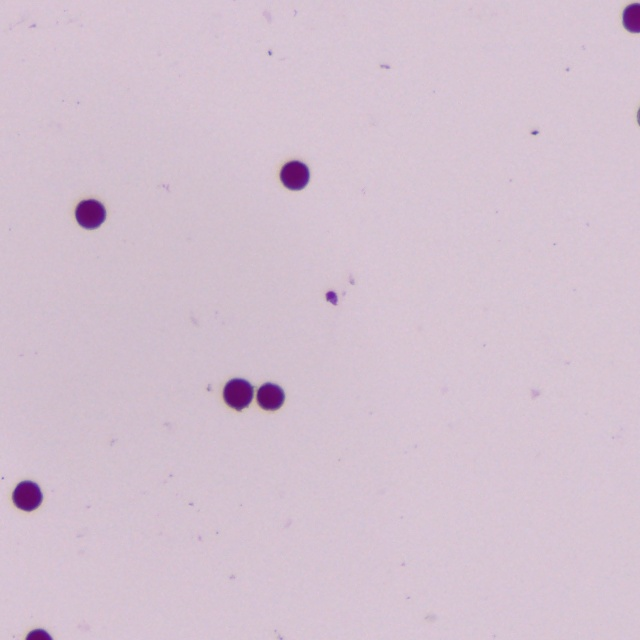viable: (224, 379, 252, 410), (76, 200, 105, 229), (14, 482, 42, 510), (281, 161, 308, 189), (258, 384, 284, 409), (623, 4, 639, 32), (26, 630, 51, 639)
